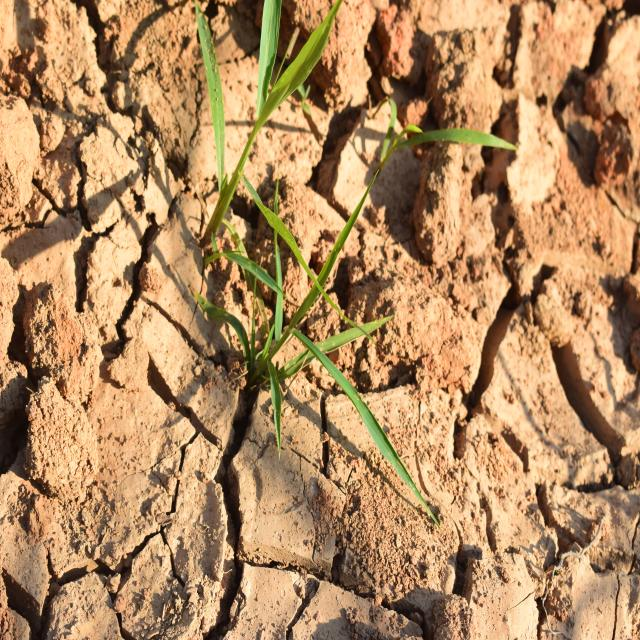green_foxtail: (218, 218, 415, 506), (163, 12, 339, 232)
